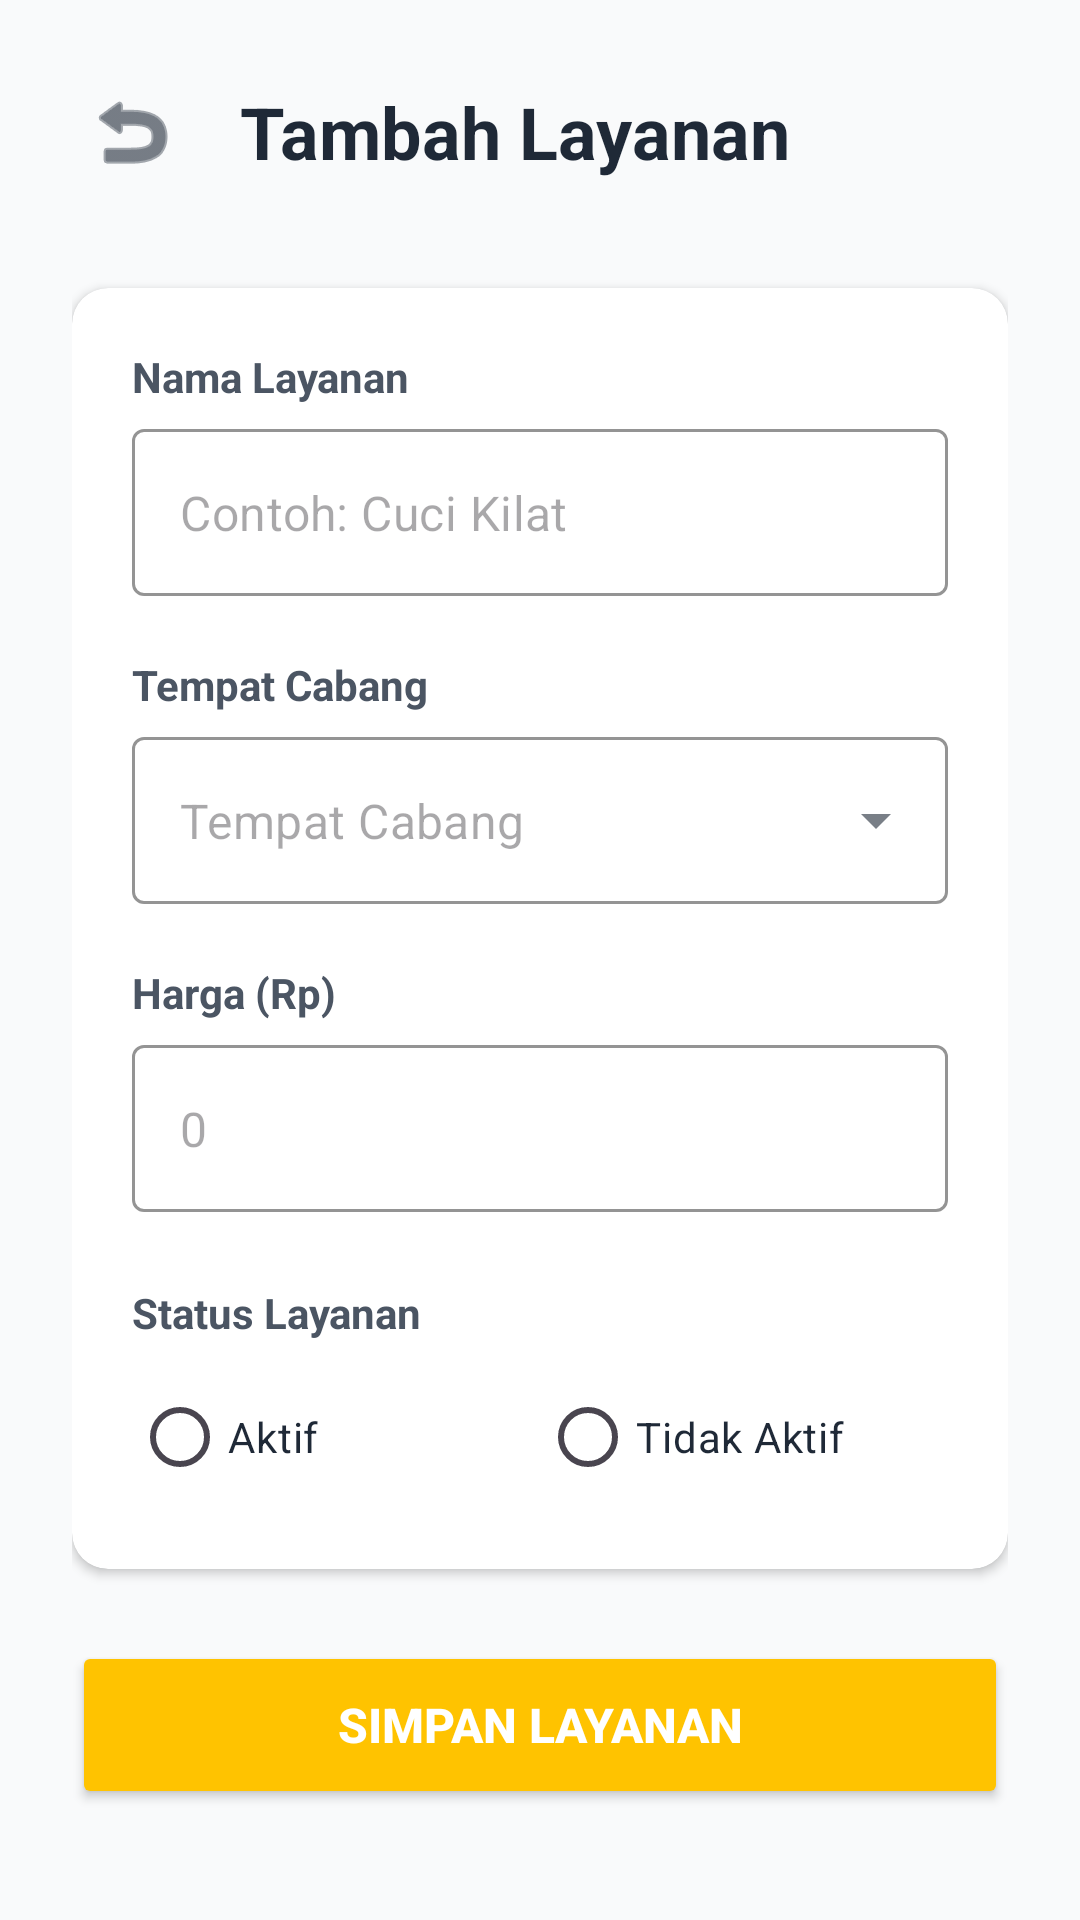

Icon click points for this 1080px×1920px phone screenshot, format (x,y):
revert: (133,132)
